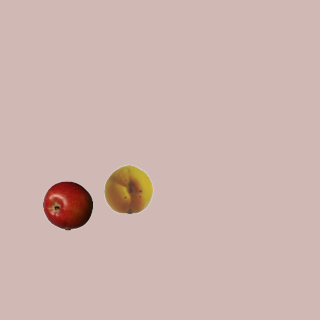Apple Braeburn: (42, 180, 92, 230)
Peach 2: (103, 163, 153, 213)
